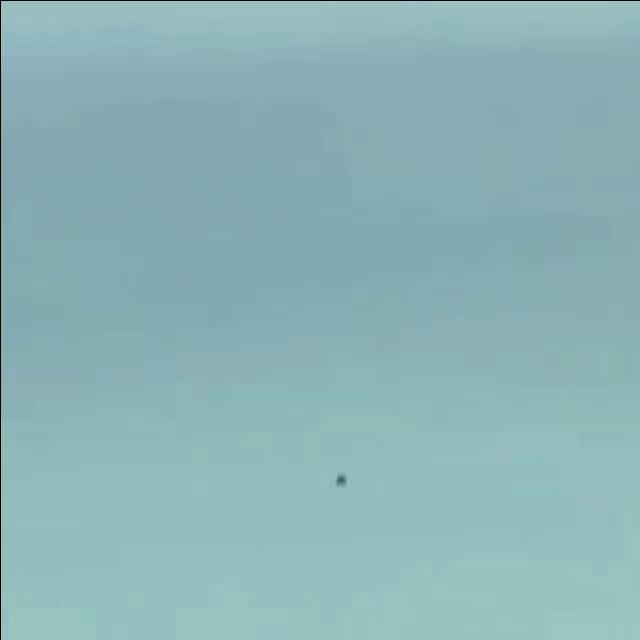golf ball: (335, 475, 346, 485)
